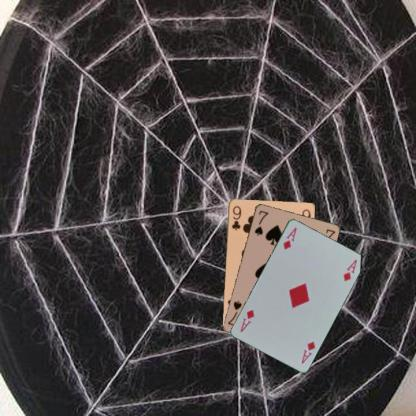7s: (252, 208, 269, 236)
9c: (229, 203, 242, 231)
Ad: (280, 225, 298, 251), (299, 338, 316, 364)
